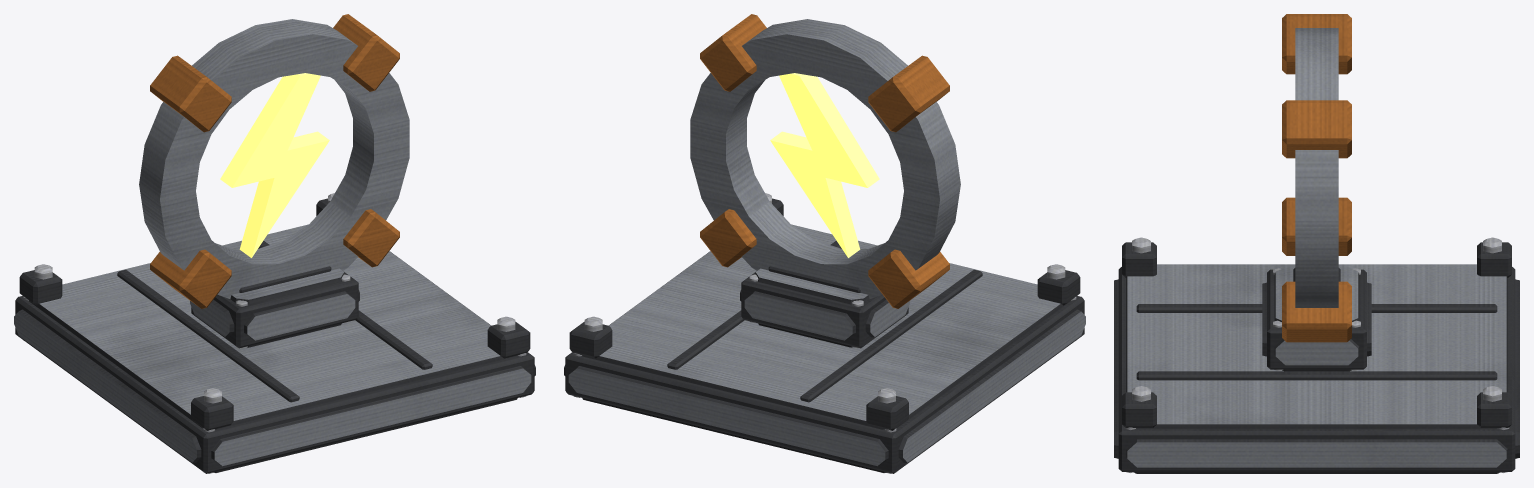
Rendered from R4X_RechargePulse.glb.
The picture shows the model from 3 angles, left to right: view 1: azimuth 30°, elevation 25°; view 2: azimuth 150°, elevation 25°; view 3: azimuth 270°, elevation 25°; orthographic projection. The views are drawn at different scales.
Parts seen in each view (by area): view 1: R4X_RechargePulse_Body; view 2: R4X_RechargePulse_Body; view 3: R4X_RechargePulse_Body.
Boxes of the visible parts, <box> form: R4X_RechargePulse_Body: <box>14,14,535,473</box>; R4X_RechargePulse_Body: <box>564,14,1085,473</box>; R4X_RechargePulse_Body: <box>1114,14,1519,473</box>.
Bounding box in the file's own units: 0.52 × 0.497 × 0.52.
5 materials, 4 textured.
